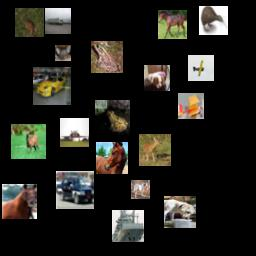airplane: (60, 118, 89, 147), (178, 93, 204, 119), (188, 55, 214, 81)
automobile: (56, 171, 94, 209), (33, 67, 71, 105)
bird: (199, 6, 228, 35)
deer: (11, 124, 46, 159), (139, 134, 171, 166)
dog: (164, 196, 196, 228), (144, 65, 170, 91), (55, 45, 71, 61)
frog: (95, 100, 130, 135), (91, 41, 123, 73), (15, 8, 44, 37)
ship: (112, 210, 144, 242)
truck: (45, 8, 71, 34)
